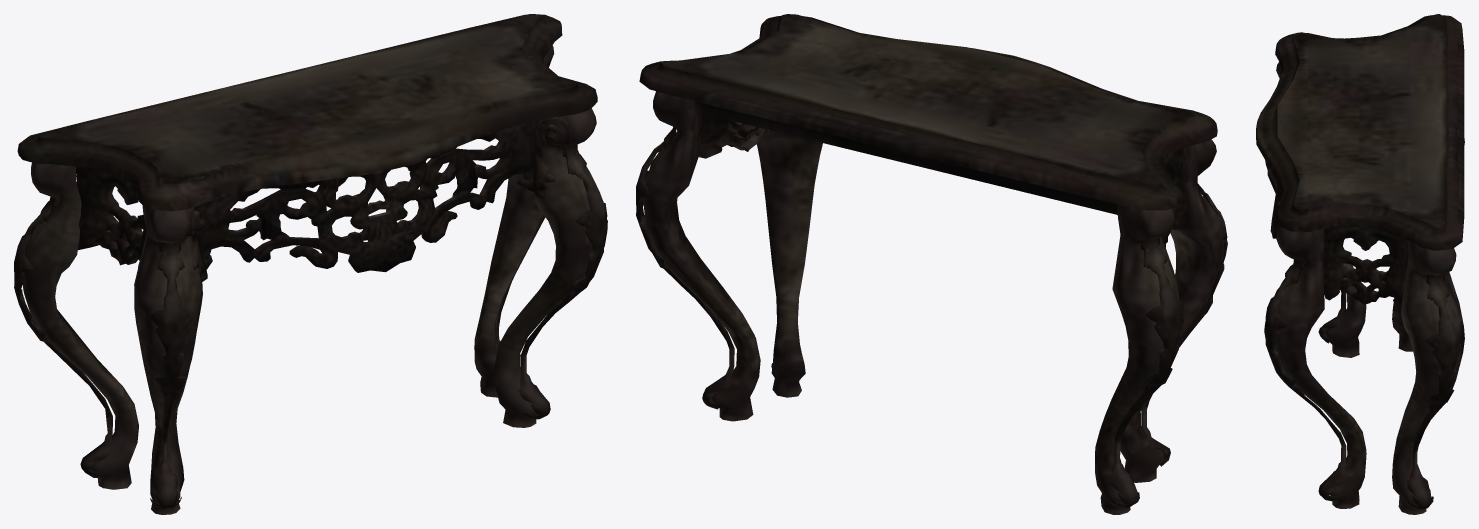
The model's file is console-classic.lite.ba0a4110.glb.
The picture shows the model from 3 angles, left to right: view 1: azimuth 30°, elevation 25°; view 2: azimuth 150°, elevation 25°; view 3: azimuth 270°, elevation 25°; orthographic projection. The views are drawn at different scales.
Visible parts, largest first — view 1: model; view 2: model; view 3: model.
Part boxes in pixels (box(x1,y1,x2,y2)): model: box(14, 14, 607, 514); model: box(636, 14, 1227, 514); model: box(1256, 14, 1464, 514).
Size of the model in its own units: 1.54 by 0.9491 by 0.5859.
Materials: 1 (1 with a texture image).
